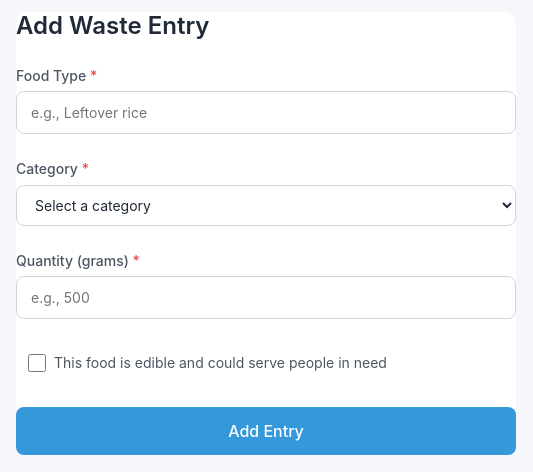
Test: WasteEntryForm › accepts valid form submission with all fields filled
In the field labelled "Food Type *": point(266, 113) [16, 91, 516, 134], type "Test food"
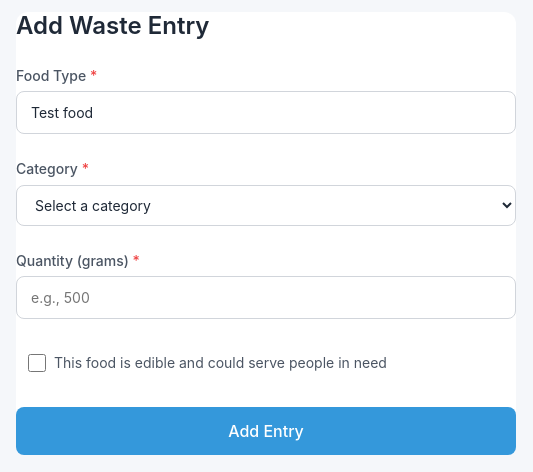
Select "Grains" in the dropdown labelled "Category *": point(266, 205) [16, 185, 516, 226]
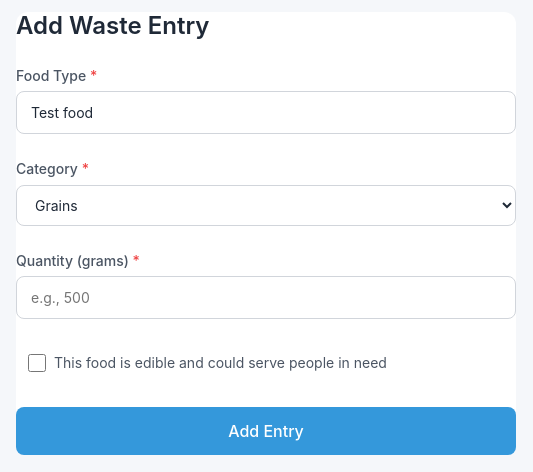
In the number field labelled "Quantity (grams) *": point(266, 298) [16, 276, 516, 319], type "500"
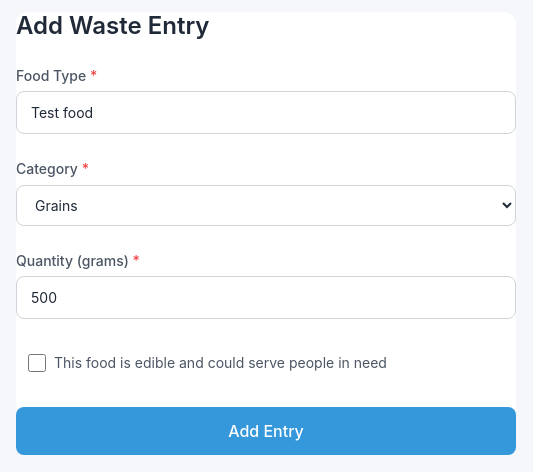
Click the checkbox labelled "This food is edible and could serve people in need": point(37, 363) [28, 354, 46, 372]
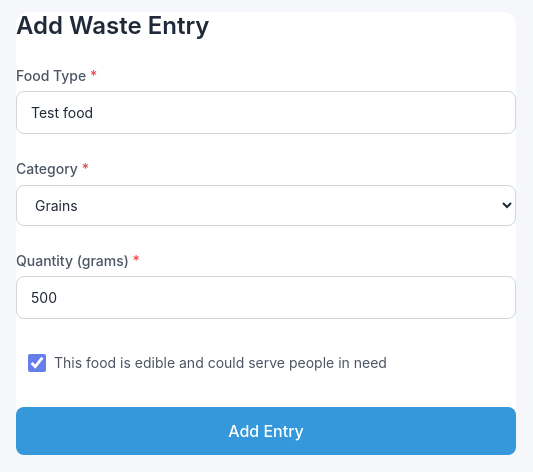
Click the button with aria-label "add waste entry": point(266, 431) [16, 407, 516, 455]
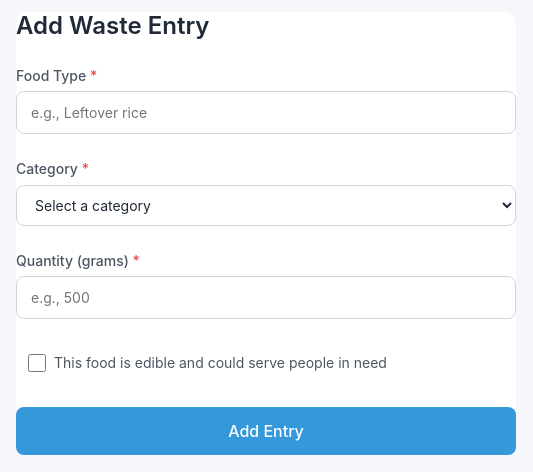
expect the checkbox labelled "This food is edible and could serve people in need" is not checked: met, box [28, 354, 46, 372]
expect the field labelled "Food Type *" is empty: met, box [16, 91, 516, 134]
